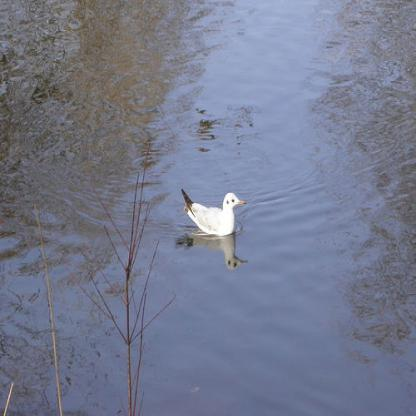bird: (179, 189, 247, 236), (174, 235, 249, 270)
